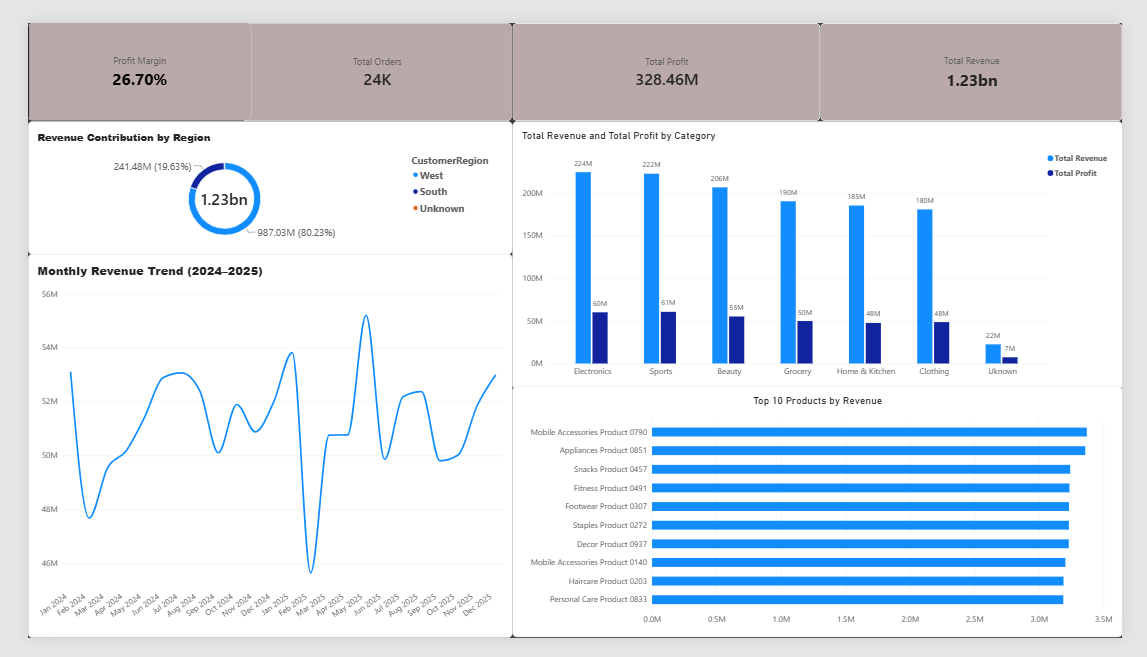

Layout of this report page (visuals, bound fields, positions):
{"tool":"powerbi","page":{"name":"Page 1","canvas":[1920,1080],"ordinal":0},"visuals":[{"type":"cardVisual","fields":{"Data":["tblorders.Total Revenue"]},"box":[1390,0,530,172],"z":3000},{"type":"cardVisual","fields":{"Data":["tblorders.Total Profit"]},"box":[850,0,540,172],"z":4000},{"type":"cardVisual","fields":{"Data":["tblorders.Total Orders"]},"box":[376,0,474,172],"z":5000},{"type":"cardVisual","fields":{"Data":["tblorders.Profit Margin"]},"box":[0,0,376,172],"z":6000},{"type":"lineChart","title":"Monthly Revenue Trend (2024–2025)","fields":{"Category":["tblorders.Month-Year"],"Y":["tblorders.Total Revenue"]},"box":[0,406,850,674],"z":8000},{"type":"donutChart","title":"Revenue Contribution by Region","fields":{"Category":["tblorders.CustomerRegion"],"Y":["tblorders.Total Revenue"]},"box":[0,172,850,234],"z":8001},{"type":"clusteredColumnChart","fields":{"Category":["tblProducts.Category"],"Y":["tblorders.Total Revenue","tblorders.Total Profit"]},"box":[850,172,1070,470],"z":8002},{"type":"clusteredBarChart","title":"Top 10 Products by Revenue","fields":{"Category":["tblProducts.ProductName"],"Y":["tblorders.Total Revenue"]},"box":[850,640,1070,440],"z":8003}]}

Visuals, with their boxes in screenshot pixels (x1, y1, x2, y2), scaled from the page's 1920x1080 canvas onto the 1147x657 screenshot:
cardVisual - tblorders.Total Revenue: <box>830,0,1146,105</box>
cardVisual - tblorders.Total Profit: <box>508,0,830,105</box>
cardVisual - tblorders.Total Orders: <box>225,0,508,105</box>
cardVisual - tblorders.Profit Margin: <box>0,0,225,105</box>
"Monthly Revenue Trend (2024–2025)" lineChart: <box>0,247,508,656</box>
"Revenue Contribution by Region" donutChart: <box>0,105,508,247</box>
clusteredColumnChart - tblProducts.Category x tblorders.Total Revenue: <box>508,105,1146,391</box>
"Top 10 Products by Revenue" clusteredBarChart: <box>508,389,1146,656</box>
